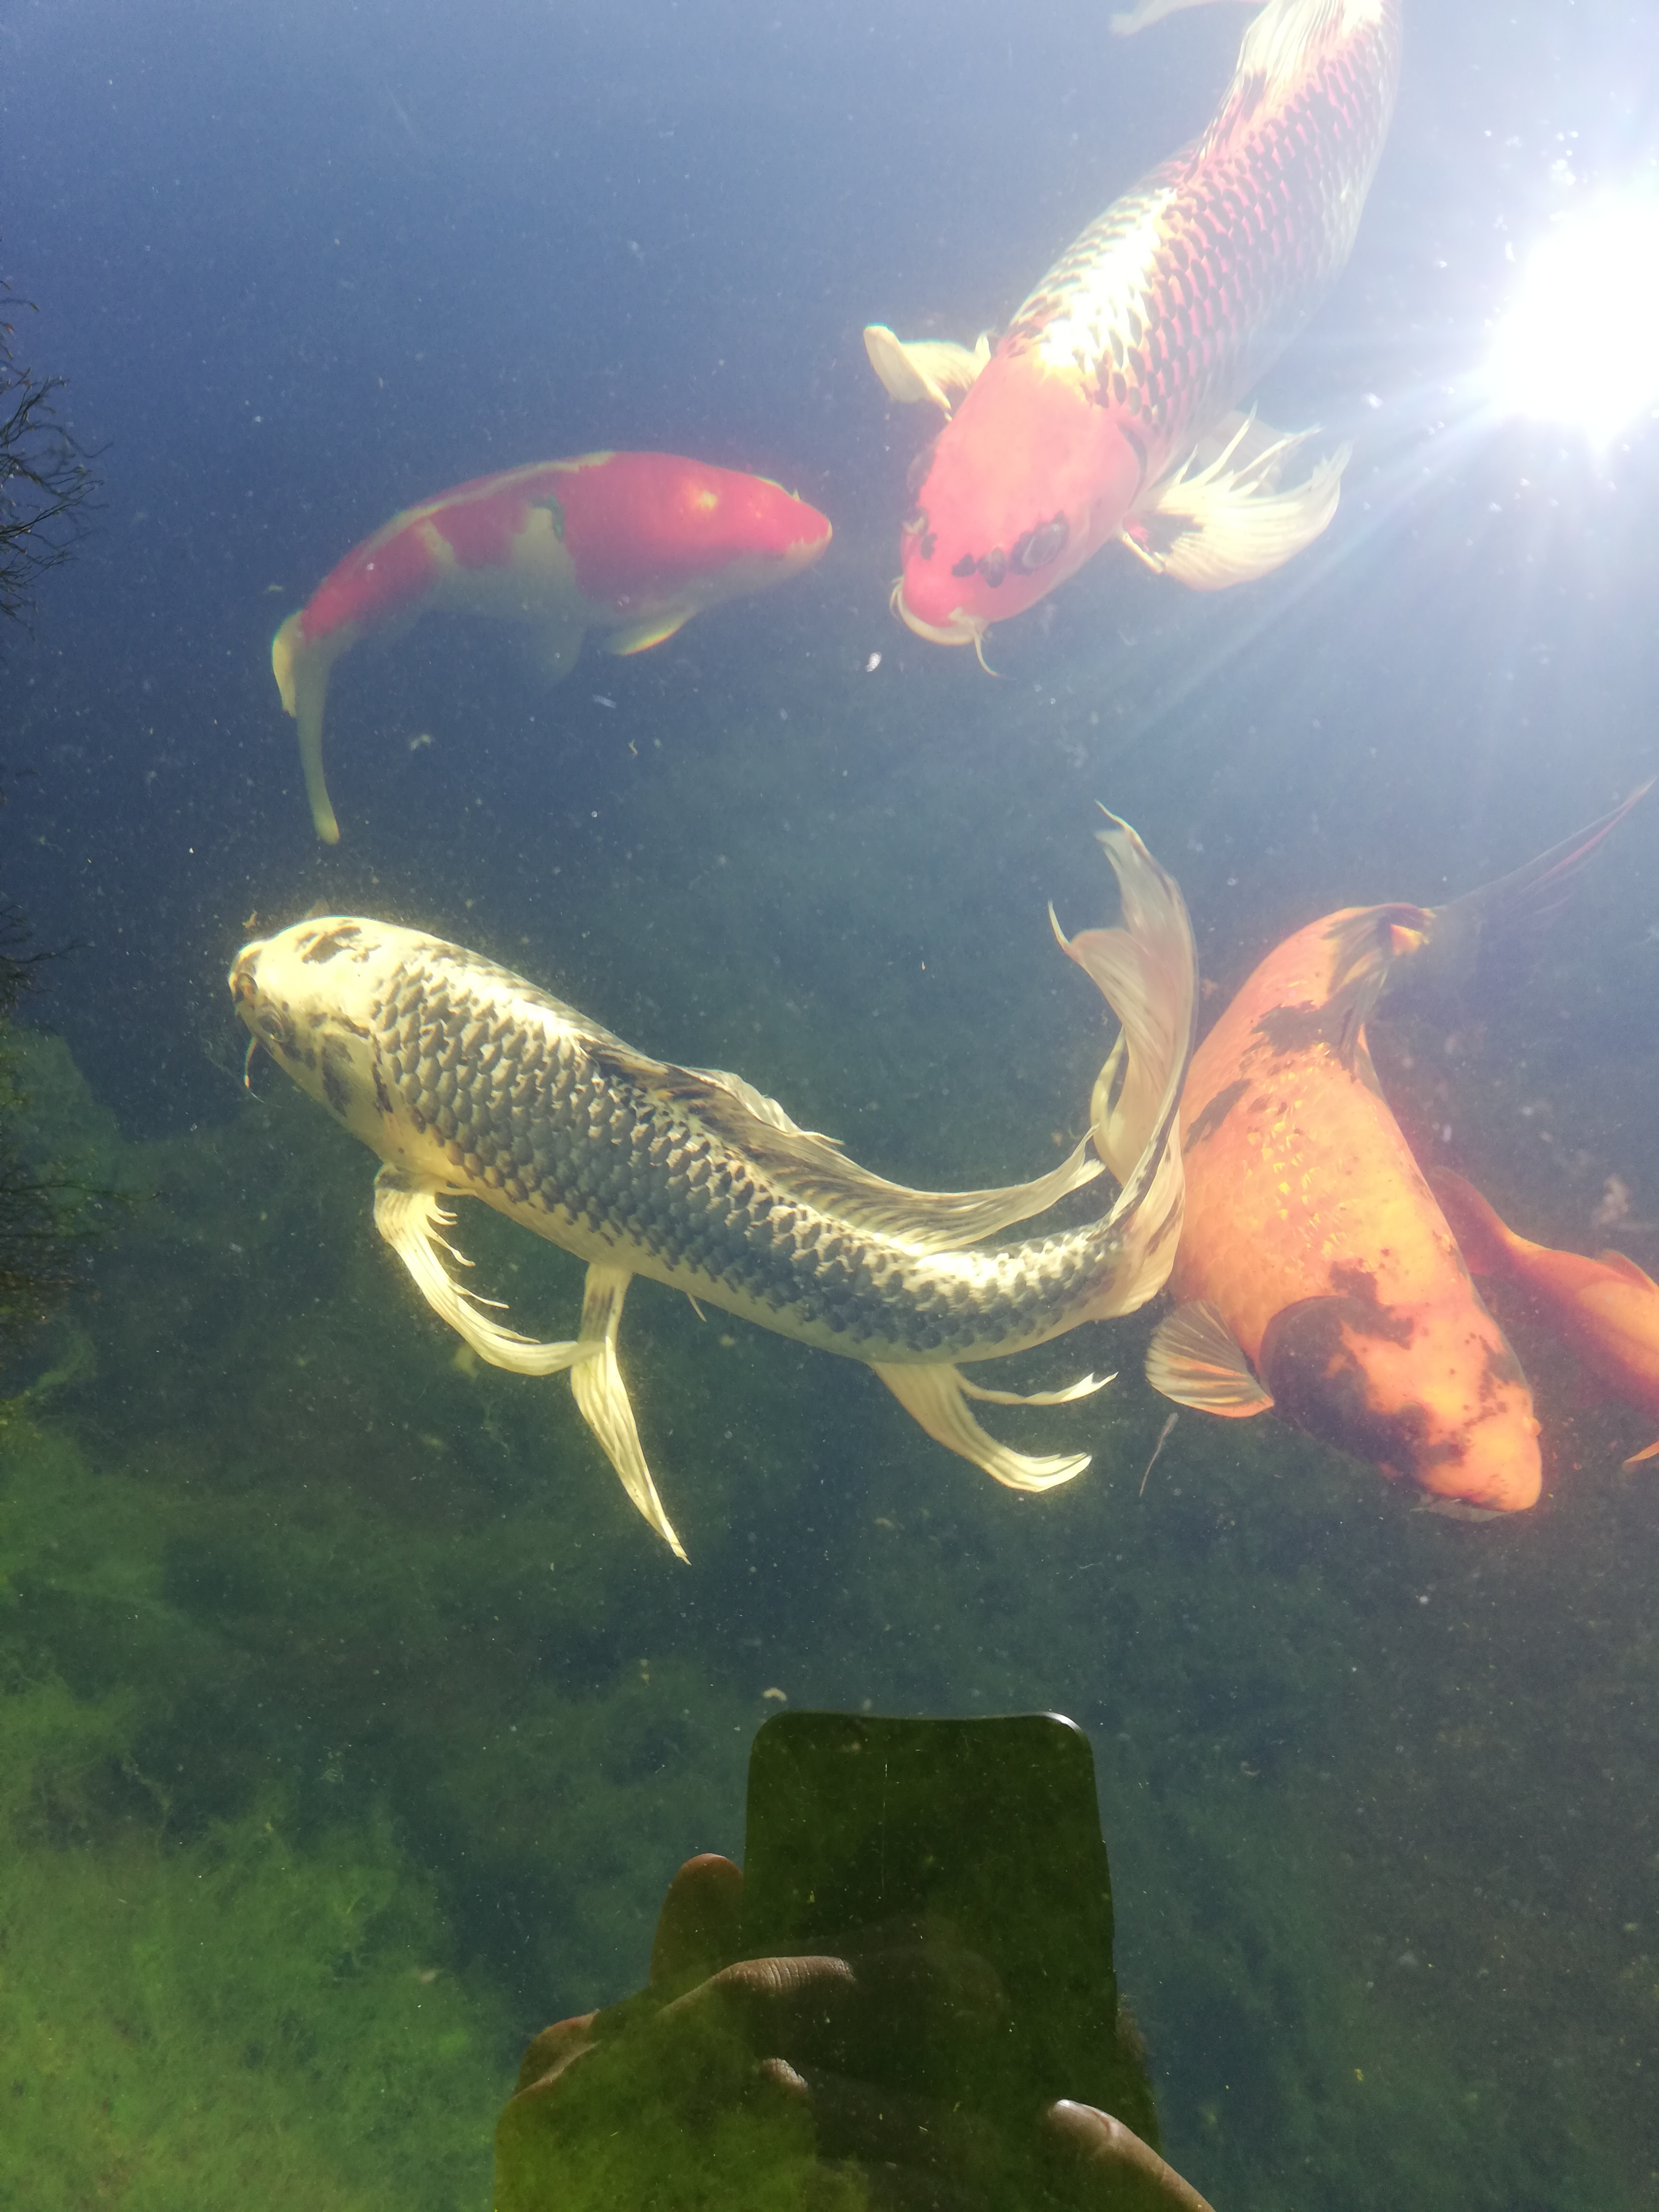Alfred2: (159, 876, 1208, 1559)
